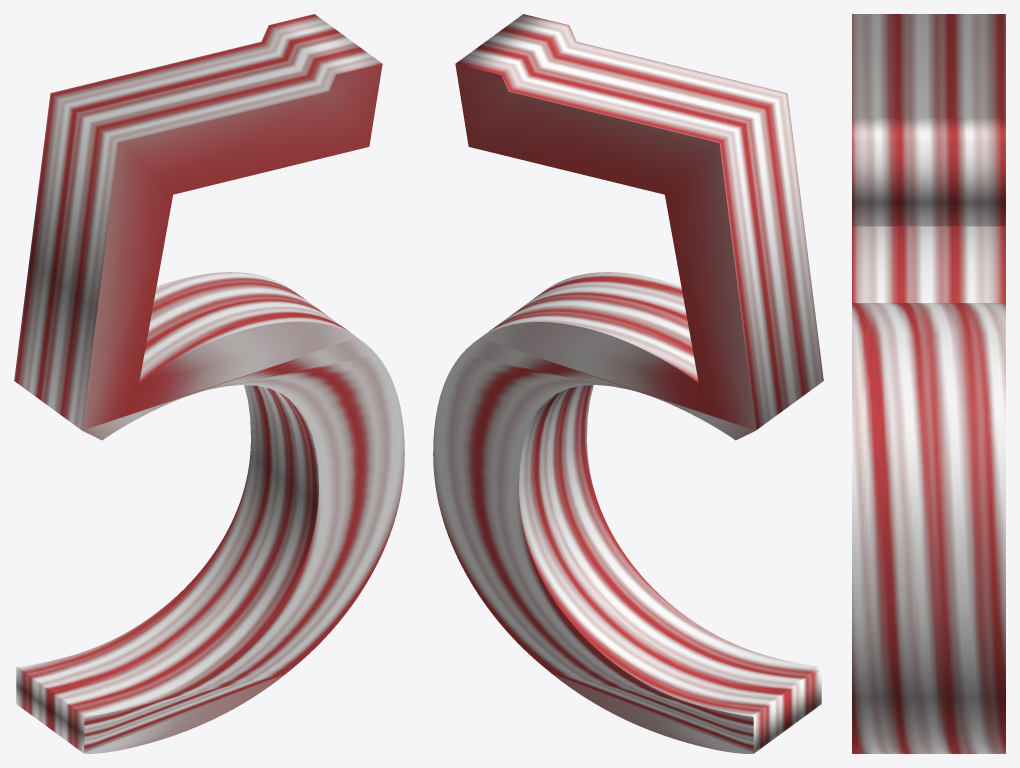
3 renders of one model, left to right at view 1: azimuth 30°, elevation 25°; view 2: azimuth 150°, elevation 25°; view 3: azimuth 270°, elevation 25°, orthographic. The views are drawn at different scales.
Visible parts, largest first — view 1: Text.010; view 2: Text.010; view 3: Text.010.
Part boxes in pixels (x1,y1,x2,y2): Text.010: (14,14,404,753); Text.010: (433,14,823,753); Text.010: (852,14,1005,753).
Size of the model in its own units: 0.3286 by 0.6059 by 0.12.
1 material, 1 textured.
